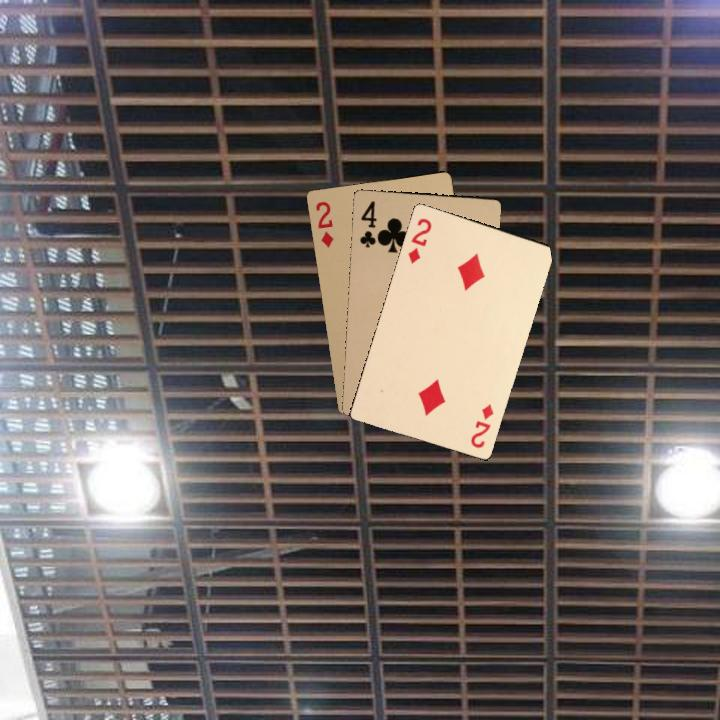2d: (403, 214, 434, 266), (467, 400, 496, 451), (312, 197, 336, 250)
4c: (356, 197, 381, 250)
